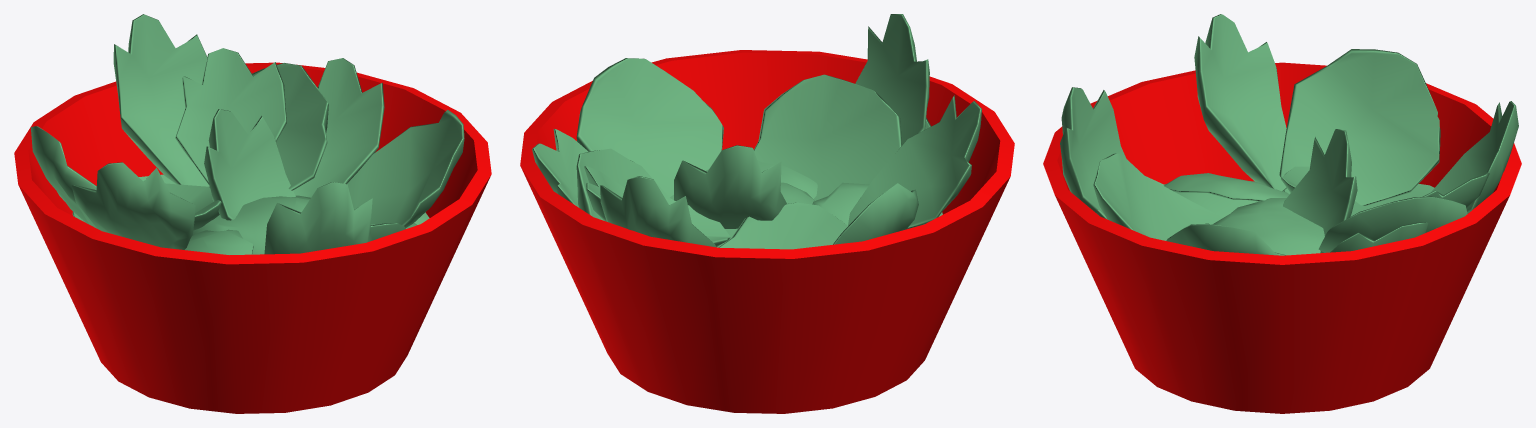
The model's file is Food_Salad.fbx.
3 views of the same model, side by side, from view 1: azimuth 30°, elevation 25°; view 2: azimuth 150°, elevation 25°; view 3: azimuth 270°, elevation 25° (orthographic). The views are drawn at different scales.
Parts seen in each view (by area): view 1: Food_Salad; view 2: Food_Salad; view 3: Food_Salad.
Boxes of the visible parts, x1,y1,x2,y2 form: Food_Salad: (14,14,491,413); Food_Salad: (520,14,1014,413); Food_Salad: (1043,14,1521,413).
Bounding box in the file's own units: 0.3807 × 0.22 × 0.3807.
